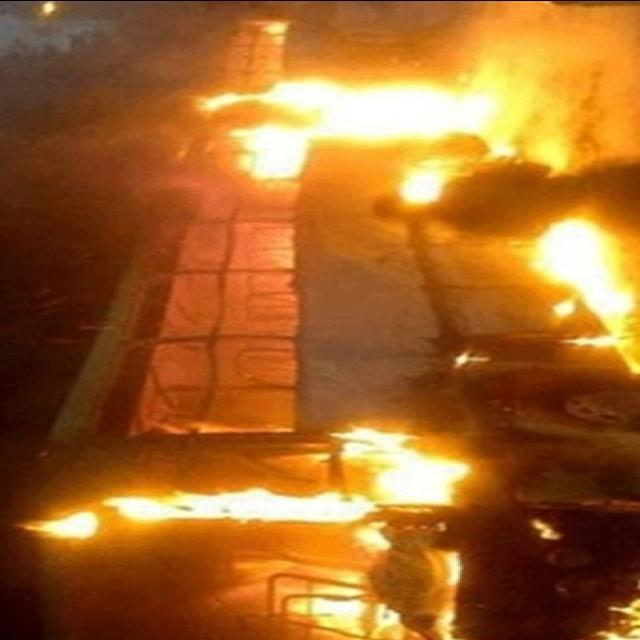Fire: (195, 57, 629, 340), (23, 428, 475, 628)
